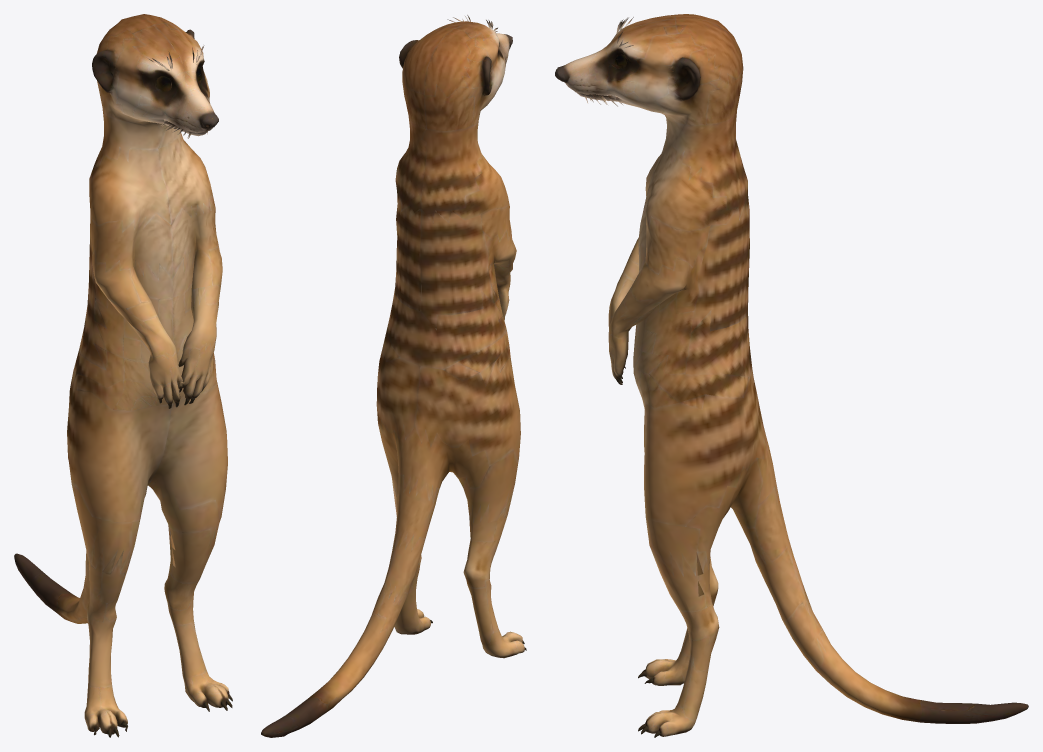
File: meerkat-suzu-stand.glb
The picture shows the model from 3 angles, left to right: view 1: azimuth 30°, elevation 25°; view 2: azimuth 150°, elevation 25°; view 3: azimuth 270°, elevation 25°; orthographic projection. The views are drawn at different scales.
Parts seen in each view (by area): view 1: geometry_0; view 2: geometry_0; view 3: geometry_0.
Part boxes in pixels (x1,y1,x2,y2): geometry_0: [14, 14, 232, 737]; geometry_0: [261, 15, 526, 737]; geometry_0: [555, 14, 1028, 737].
Size of the model in its own units: 0.207 by 0.9507 by 0.5947.
1 material, 1 textured.
